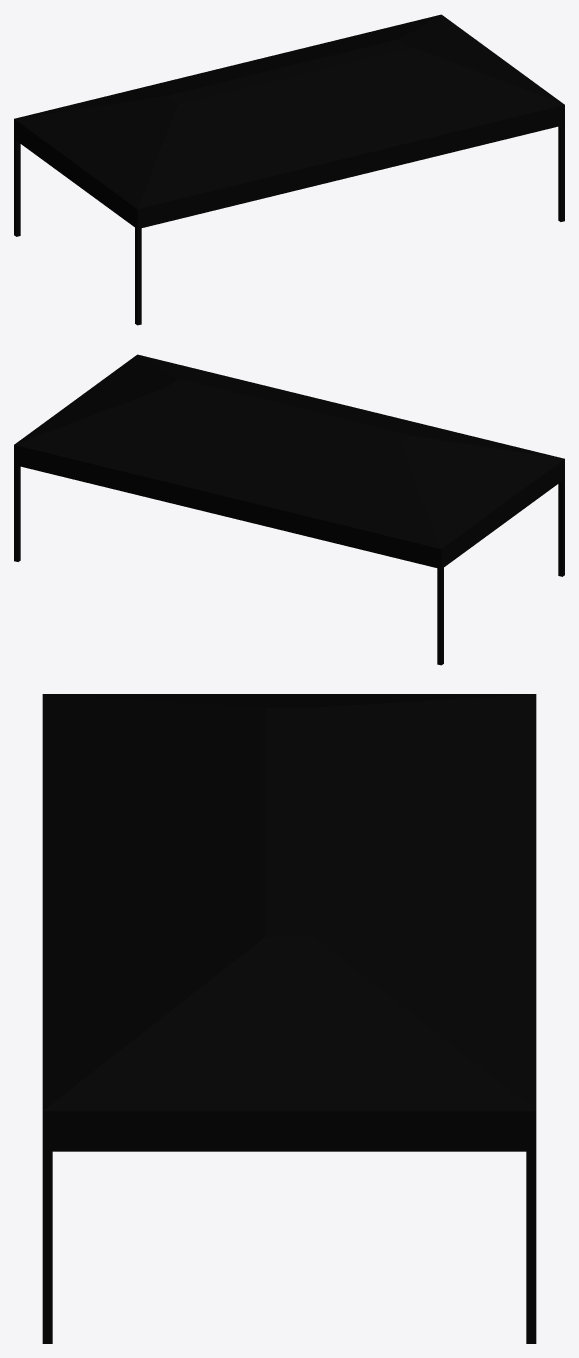
File: tentLong.glb
3 views of the same model, one above another, from view 1: azimuth 30°, elevation 25°; view 2: azimuth 150°, elevation 25°; view 3: azimuth 270°, elevation 25° (orthographic). The views are drawn at different scales.
Parts seen in each view (by area): view 1: Mesh tentLong; view 2: Mesh tentLong; view 3: Mesh tentLong.
Boxes of the visible parts, left/top/right/bottom form: Mesh tentLong: left=14, top=14, right=564, bottom=325; Mesh tentLong: left=14, top=354, right=564, bottom=665; Mesh tentLong: left=42, top=694, right=536, bottom=1343.
Bounding box in the file's own units: 2 × 0.7 × 1.
Materials: 1 (1 with a texture image).
